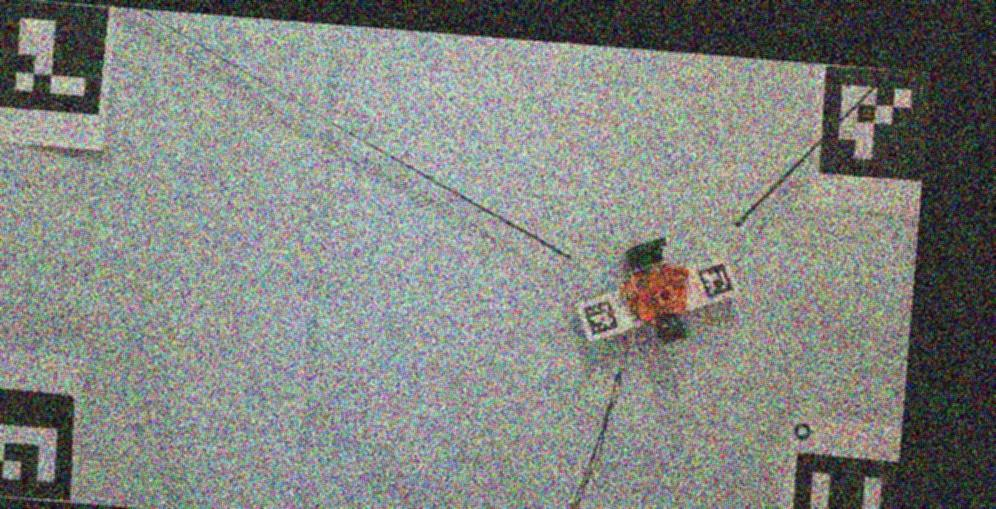robot: (620, 237, 691, 340)
